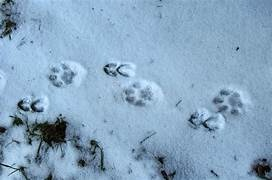rat: (116, 49, 203, 137)
